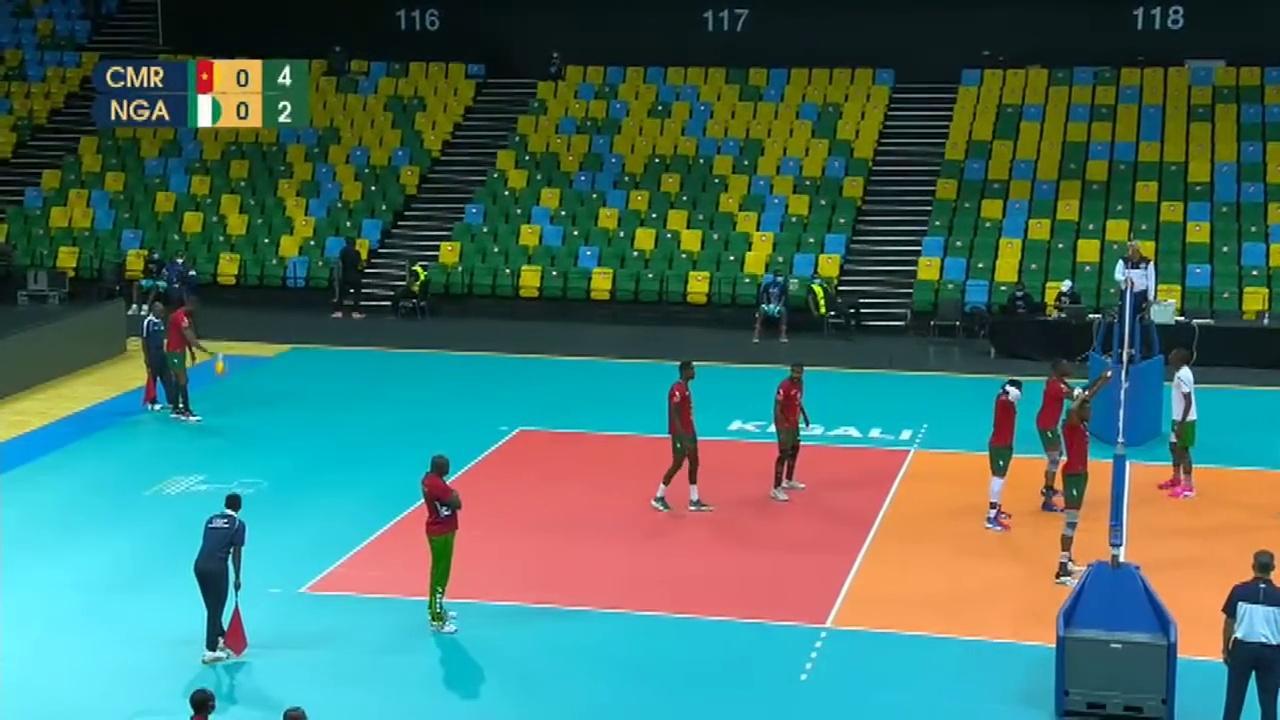player: (655, 364, 712, 511), (1054, 396, 1098, 586), (1036, 350, 1084, 516), (1161, 348, 1199, 495), (169, 295, 209, 434), (982, 380, 1020, 526), (773, 364, 814, 499)
refree: (1216, 555, 1278, 719), (192, 496, 249, 659), (1108, 234, 1164, 341), (141, 299, 176, 414)
